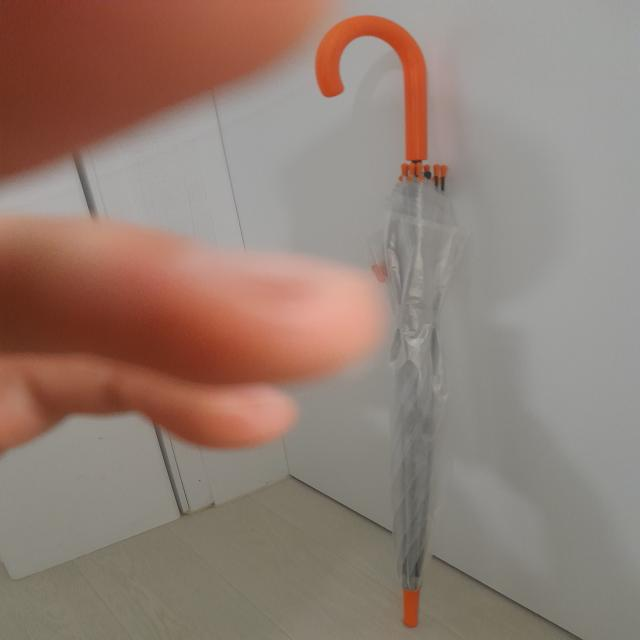umbrella: (313, 15, 473, 626)
